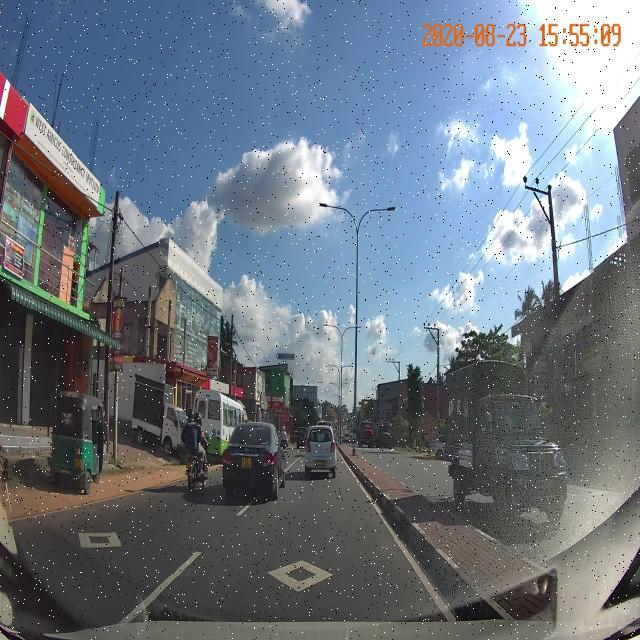diamond: (122, 539, 477, 625)
